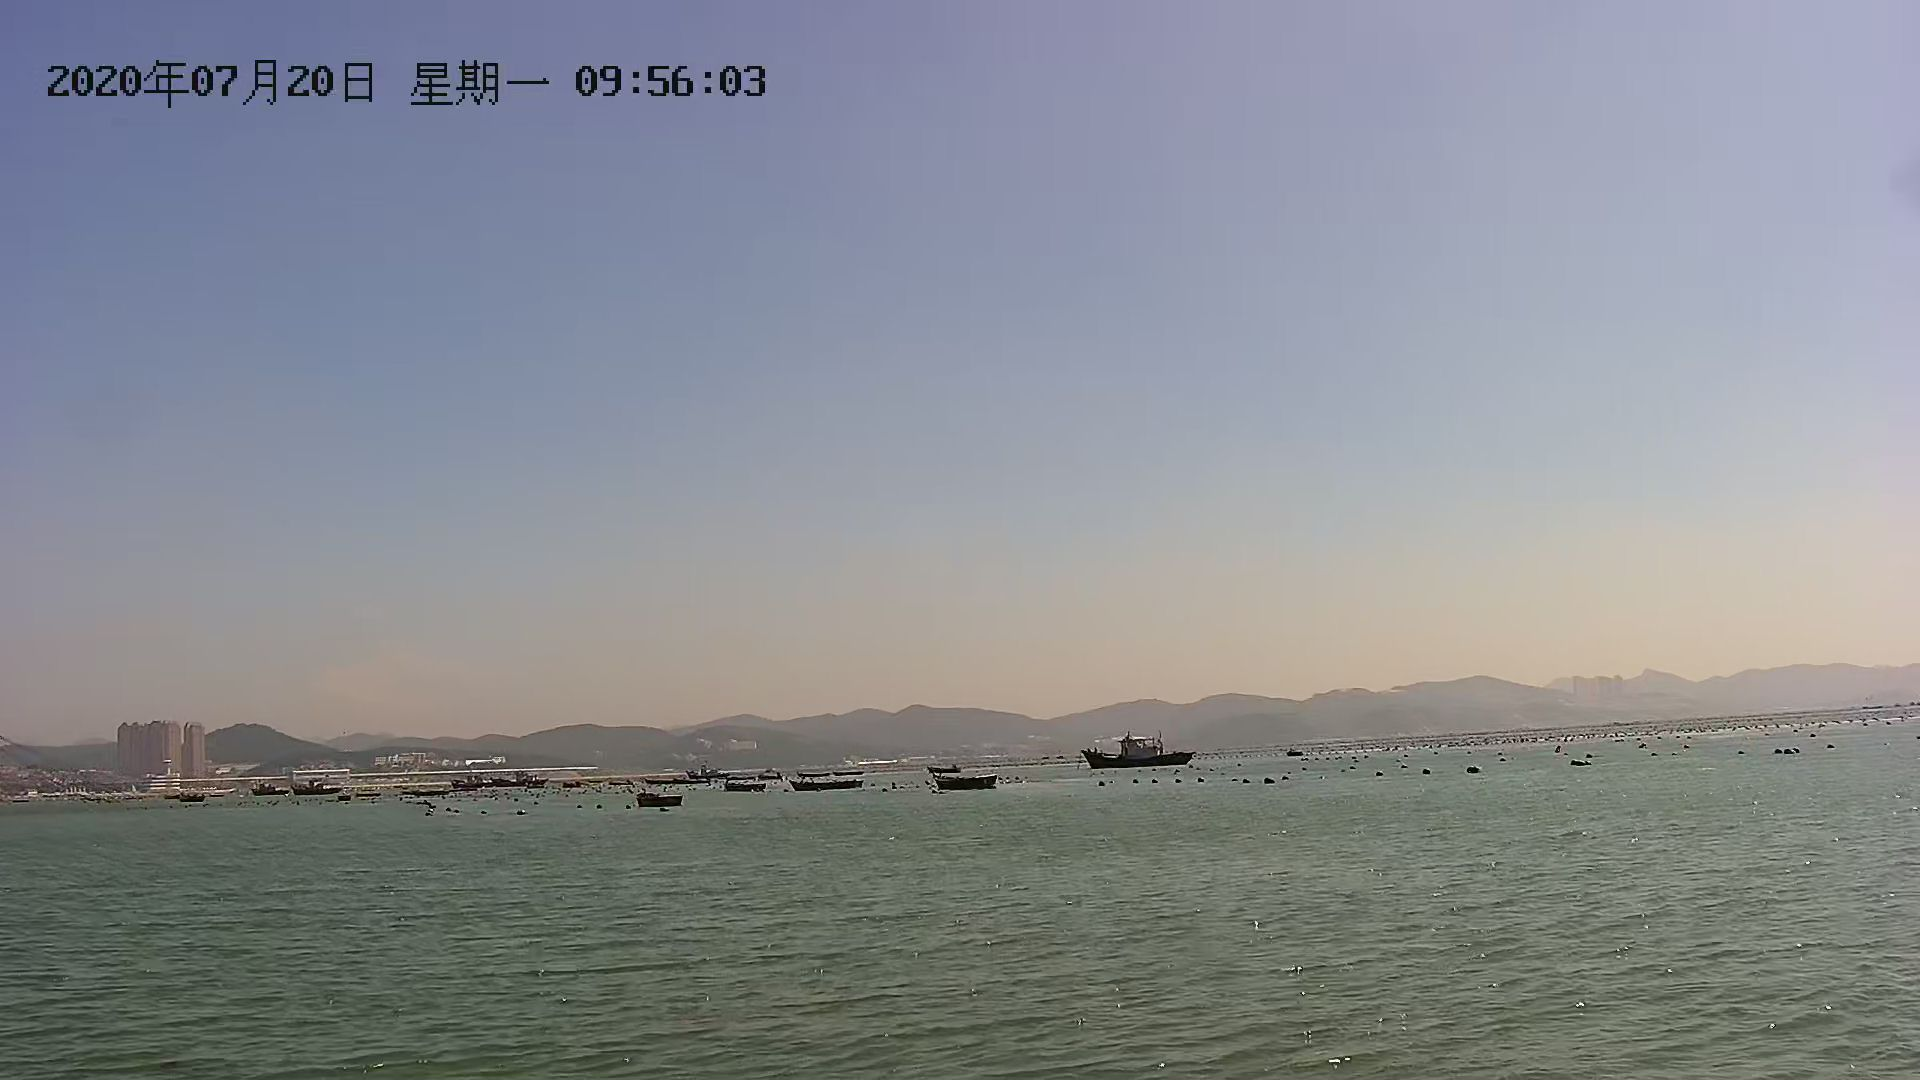boat: (632, 787, 686, 815), (789, 775, 869, 794), (938, 771, 1002, 793)
ship: (1083, 733, 1201, 770)
